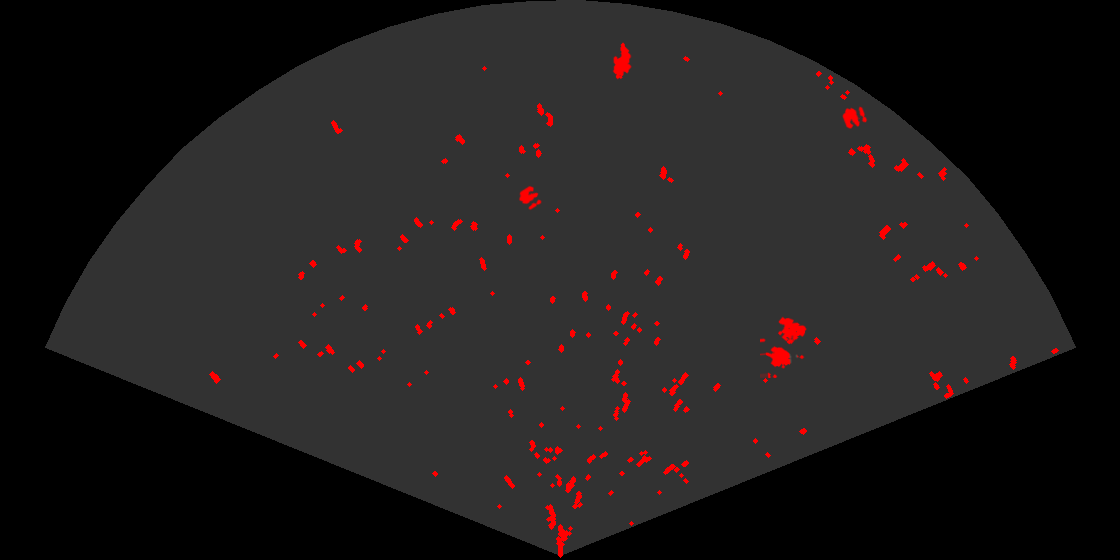AUV: (611, 41, 633, 81)
ball: (517, 184, 543, 212), (841, 105, 869, 130)
cage: (760, 315, 808, 378)
